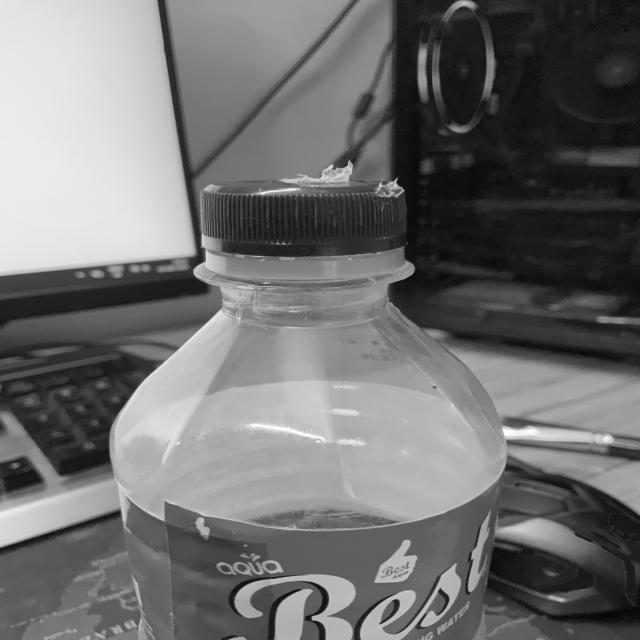Good-cap-Df0S: (194, 176, 417, 284)
